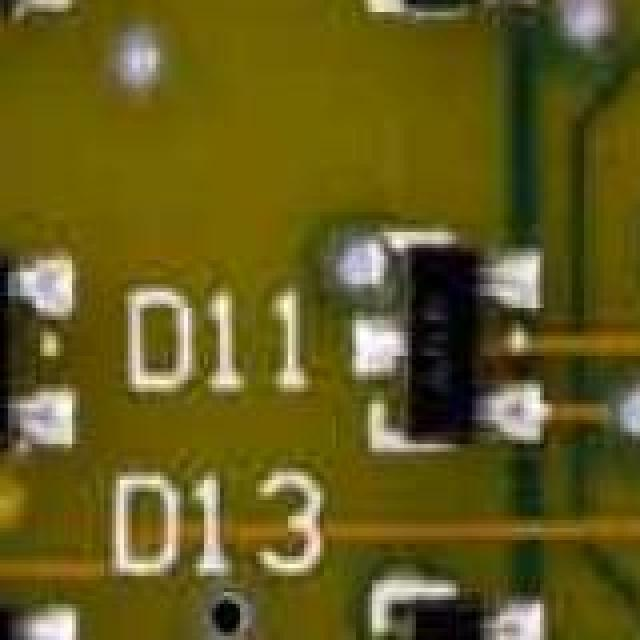transistor: (372, 248, 510, 464), (404, 572, 508, 640), (0, 260, 16, 464), (380, 0, 492, 12), (0, 600, 28, 640), (0, 0, 44, 12)
